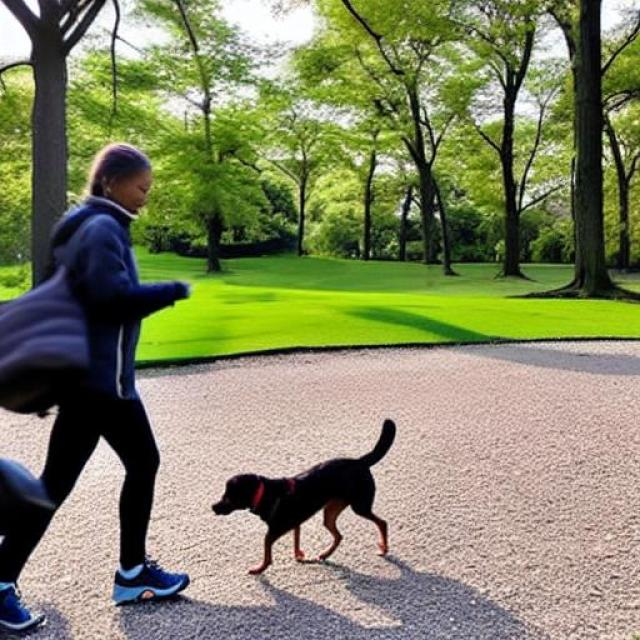Unleashed_Dog: (69, 376, 397, 576)
